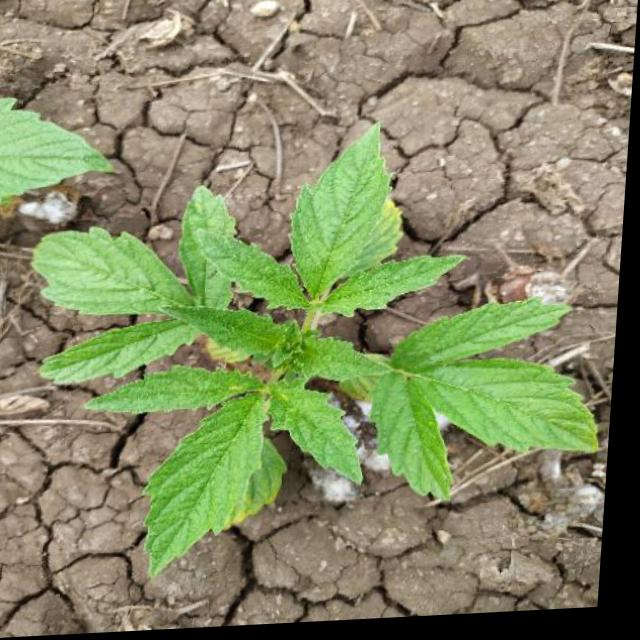crop: (16, 126, 632, 567)
